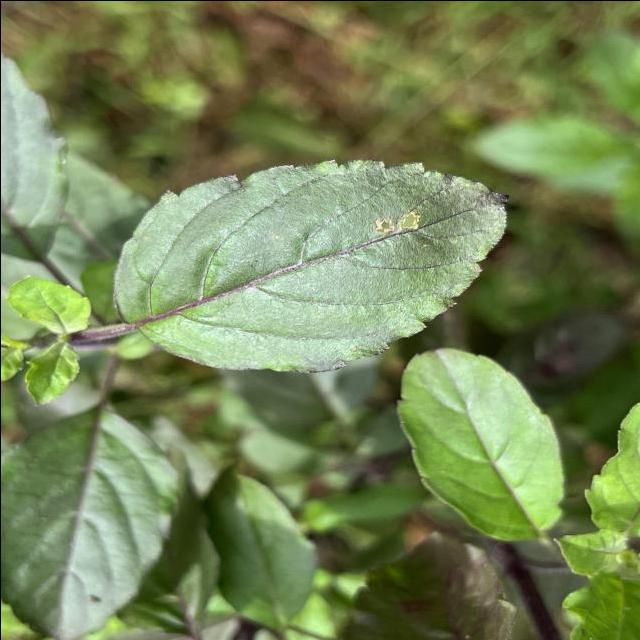Ocimum tenuiflorum: (108, 155, 509, 374)
